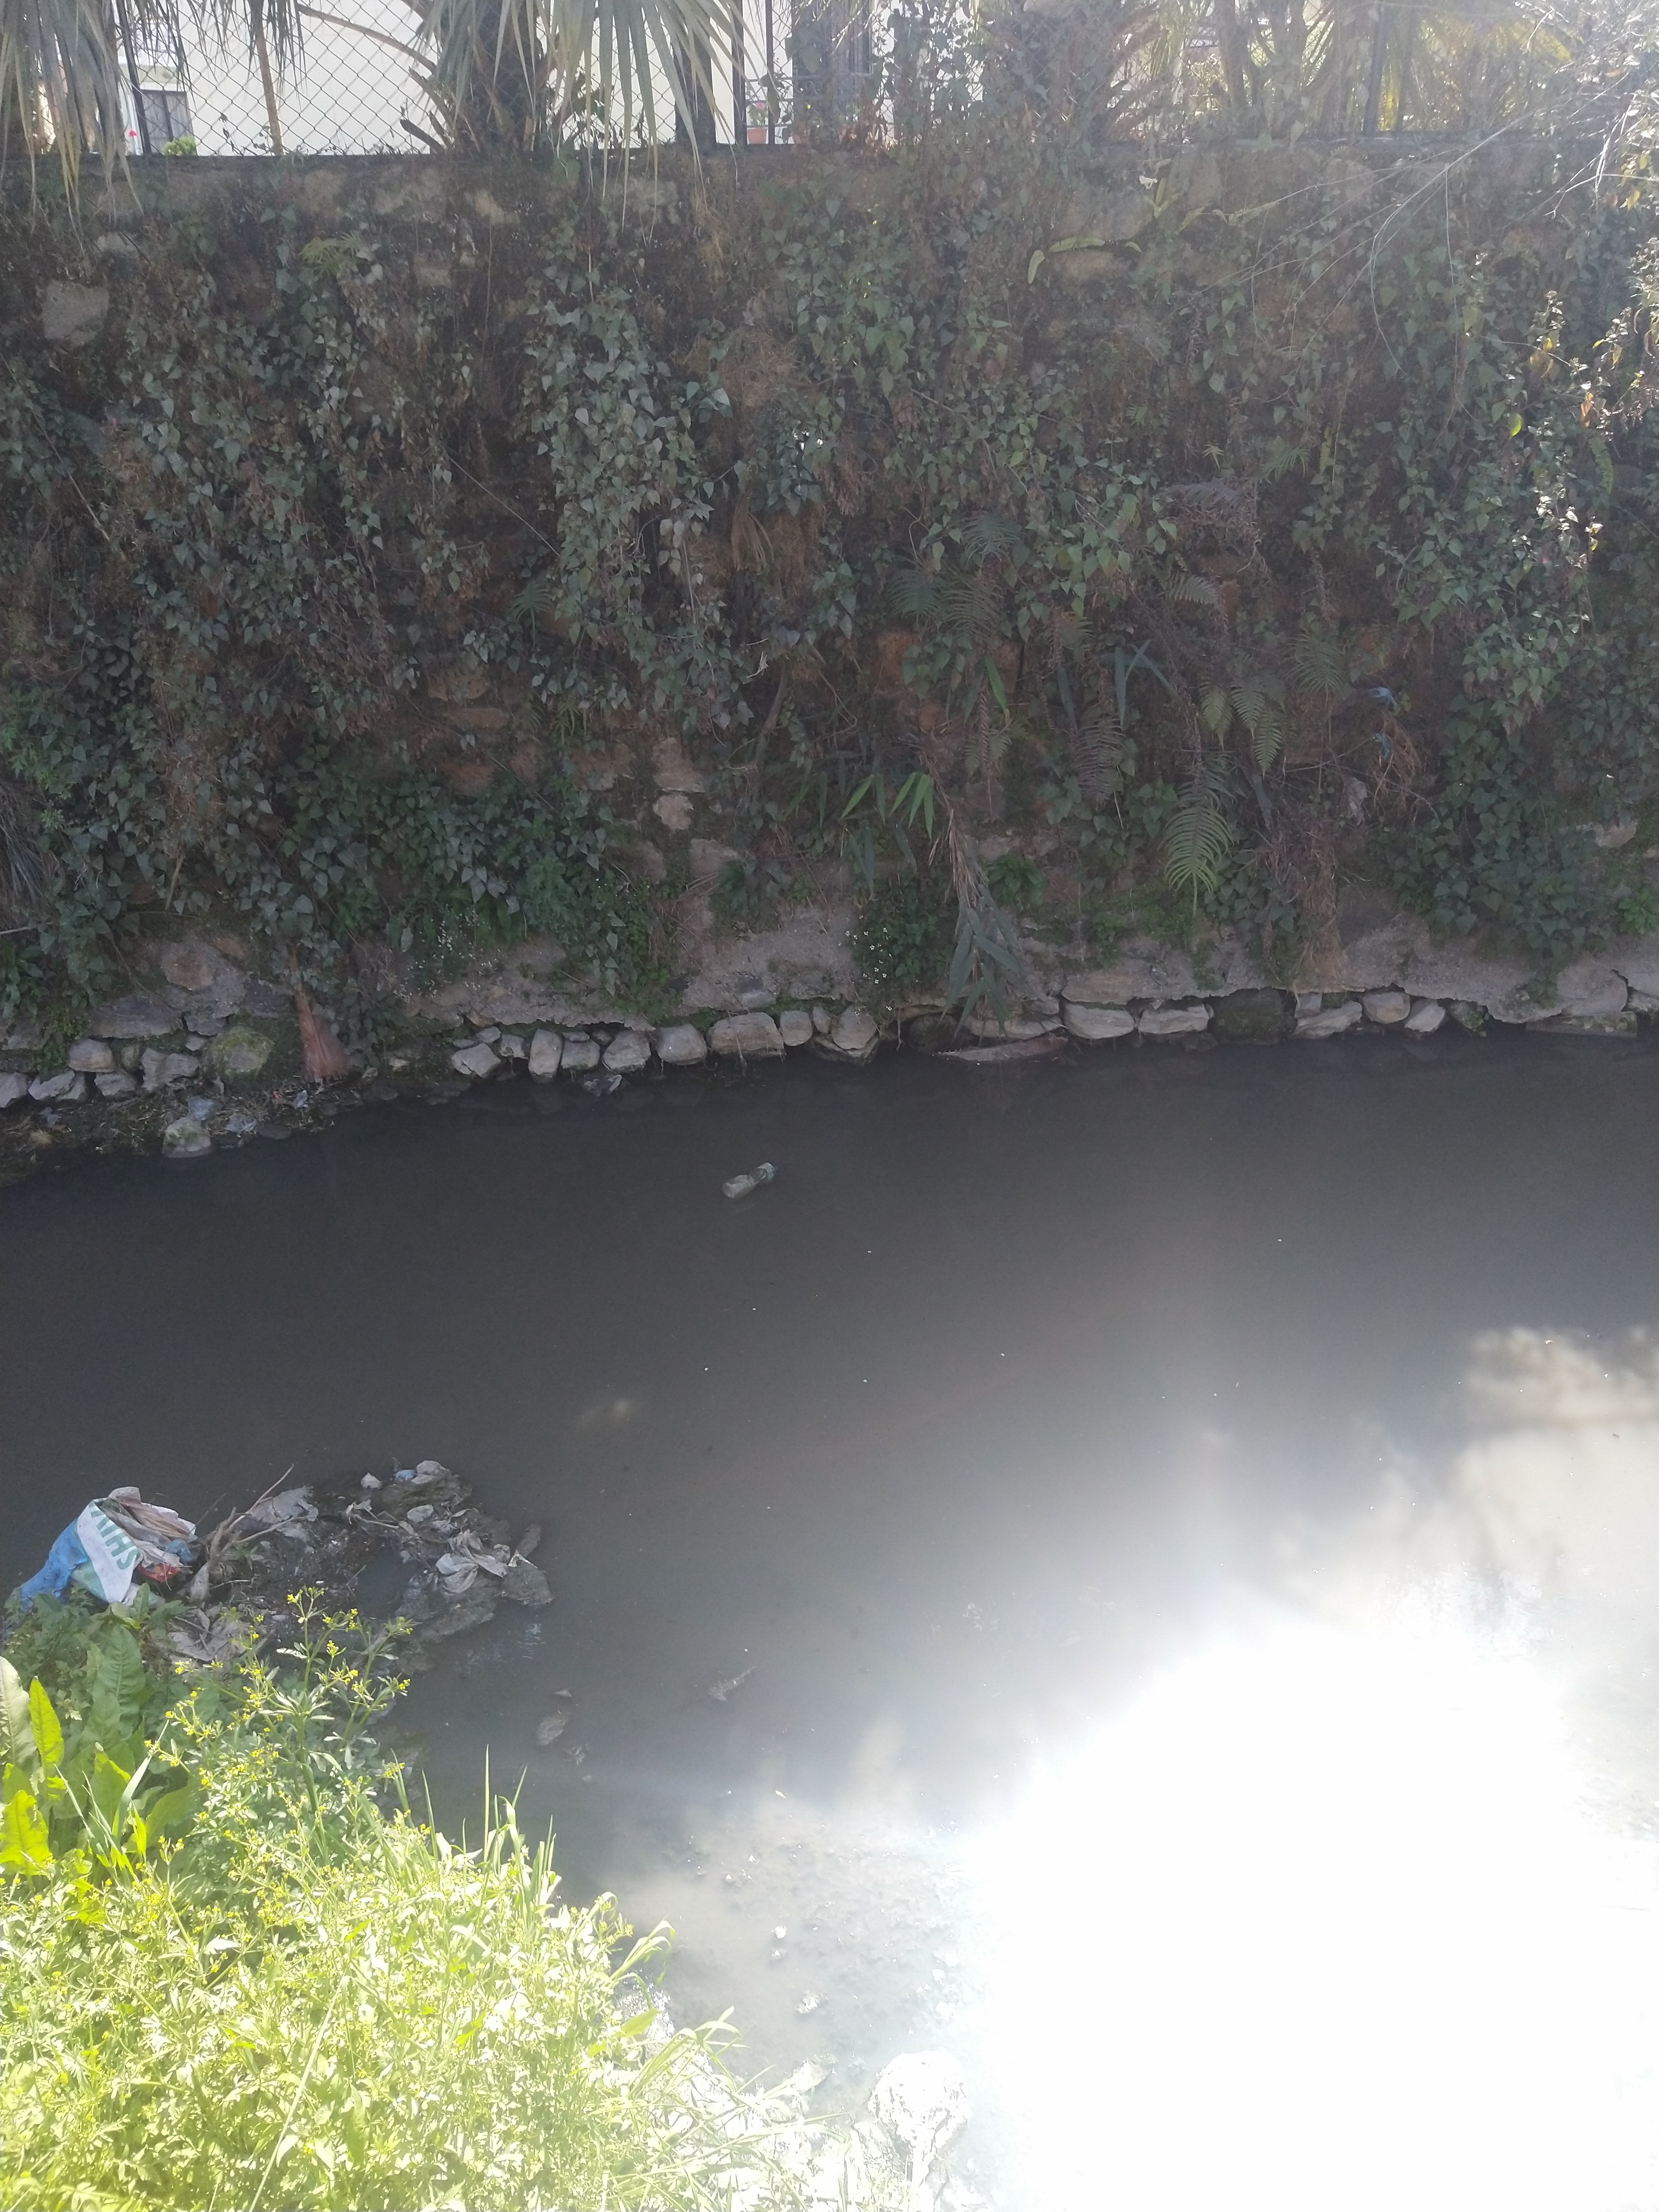Plastic Bottle: (721, 1163, 779, 1200)
